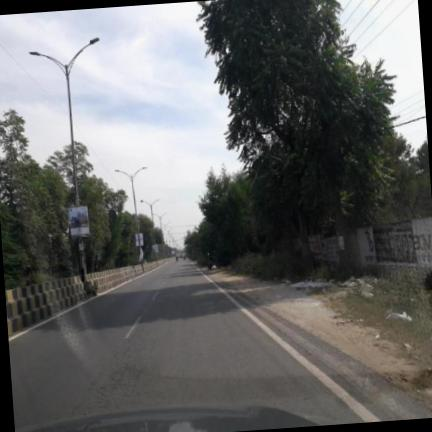Road: (9, 261, 385, 428)
